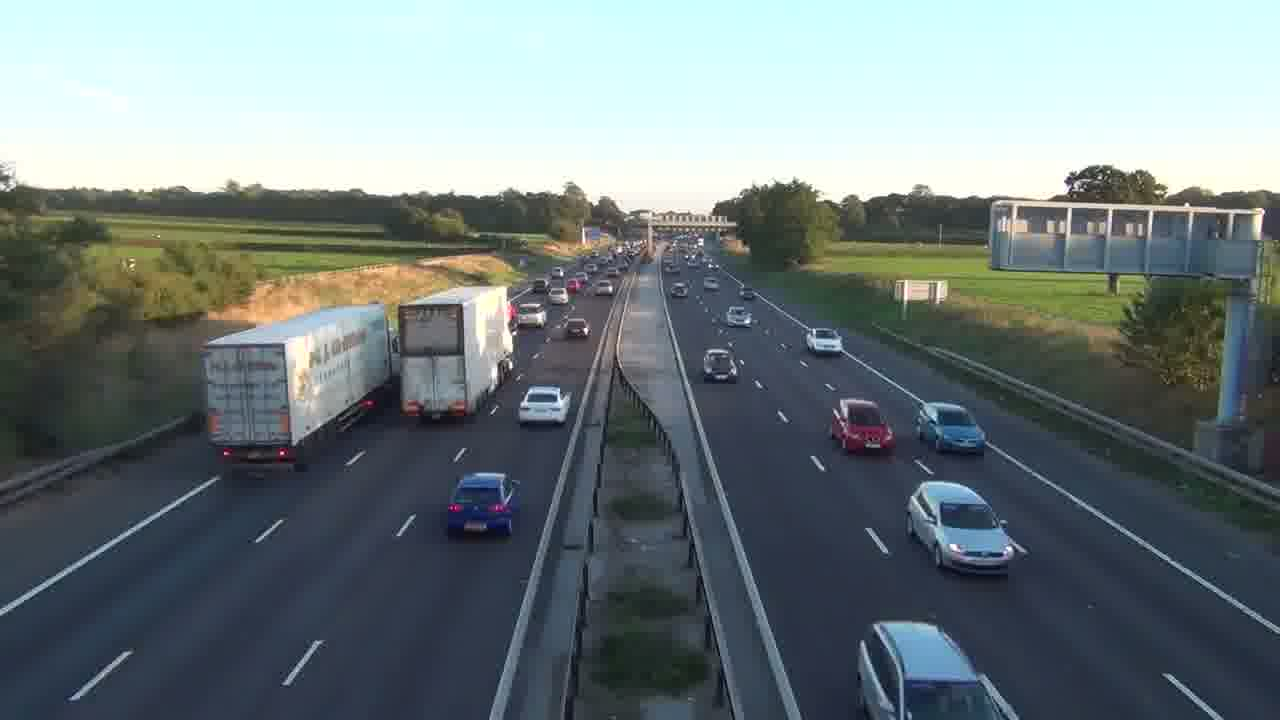car: (855, 619, 1021, 718), (905, 479, 1022, 576), (446, 471, 523, 537), (913, 400, 987, 454), (917, 401, 987, 455), (517, 385, 567, 426), (703, 347, 739, 382), (726, 305, 752, 326)
truck: (203, 304, 391, 468), (855, 619, 1021, 718), (399, 286, 514, 422)
